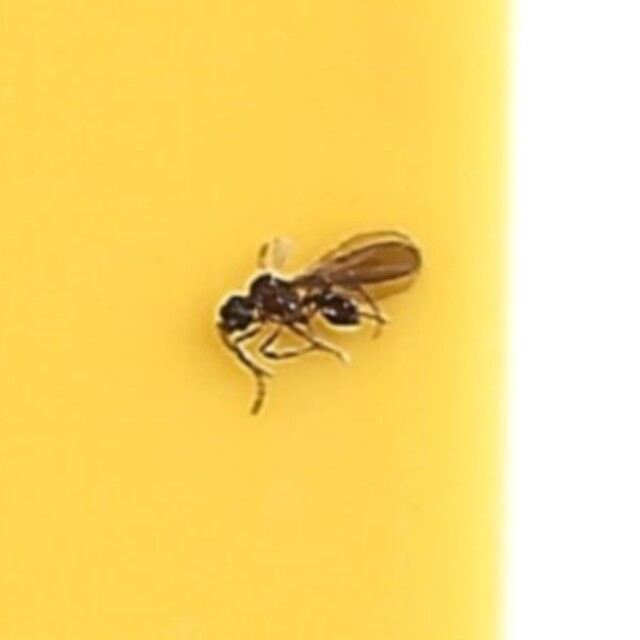Hymenoptera: (208, 209, 432, 431)
